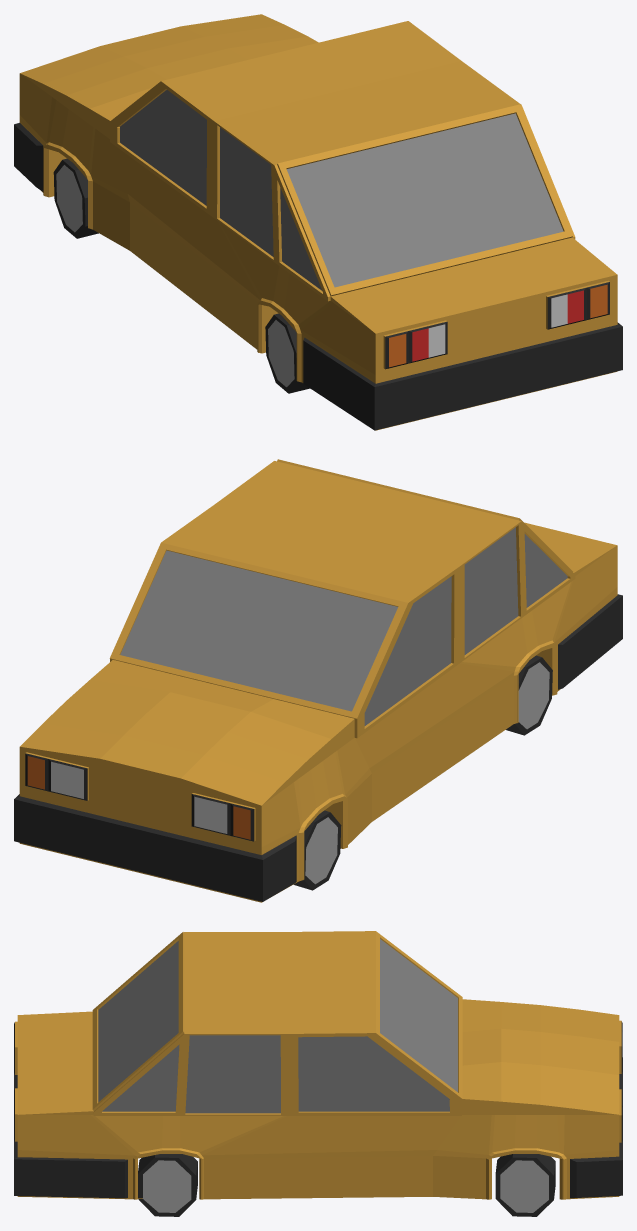
File: Car1BrownColoured.fbx
3 renders of one model, top to bottom at view 1: azimuth 30°, elevation 25°; view 2: azimuth 150°, elevation 25°; view 3: azimuth 270°, elevation 25°, orthographic. The views are drawn at different scales.
Visible parts, largest first — view 1: Cube; view 2: Cube, Cube.006, Cube.005; view 3: Cube.
Part boxes in pixels (bbox=[...]): Cube: bbox=[14, 14, 622, 430]; Cube: bbox=[14, 459, 622, 902]; Cube.006: bbox=[191, 793, 255, 841]; Cube.005: bbox=[25, 752, 88, 800]; Cube: bbox=[14, 931, 622, 1216].
Bounding box in the file's own units: 250 × 200 × 600.
